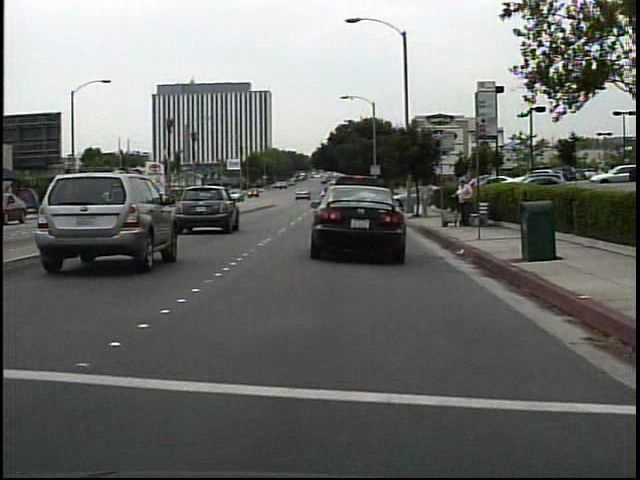person: (449, 173, 477, 227), (415, 175, 438, 221)
